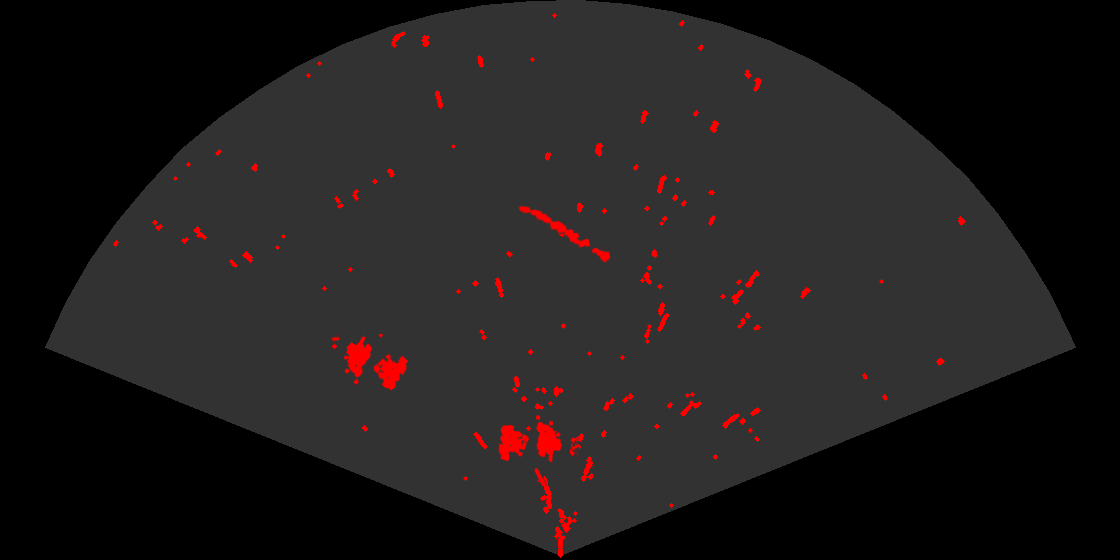cage: (497, 413, 579, 486), (332, 334, 410, 392)
chain: (517, 204, 612, 264)
